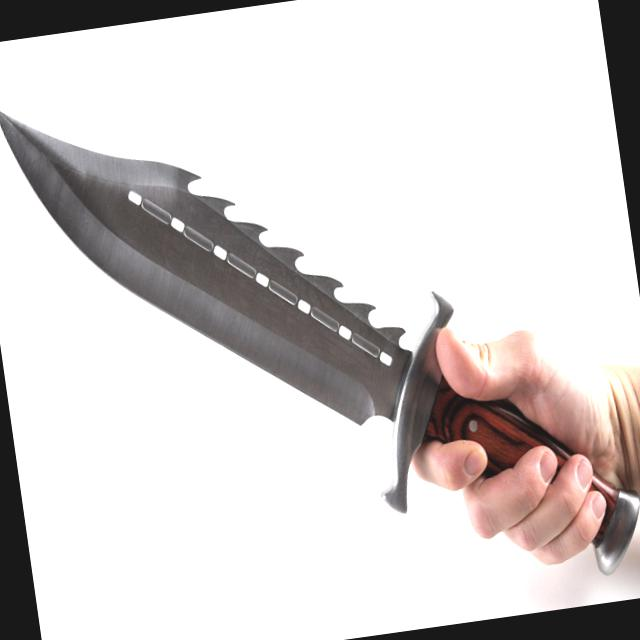knife: (0, 11, 639, 639)
